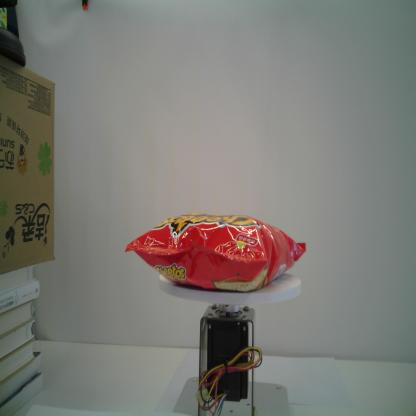Puffed Food: (124, 210, 306, 294)
